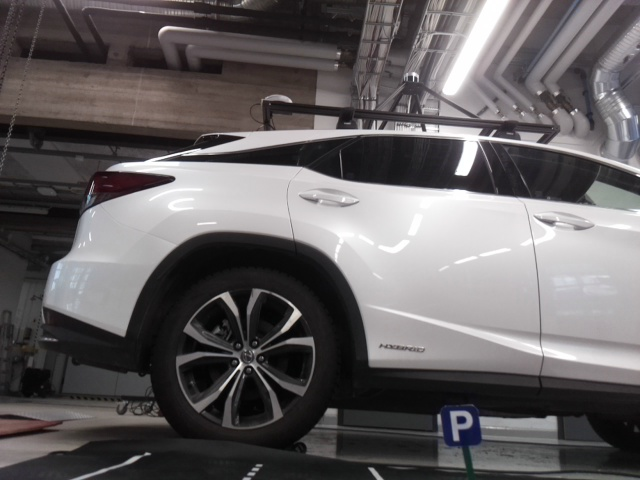Parking: (438, 404, 481, 445)
